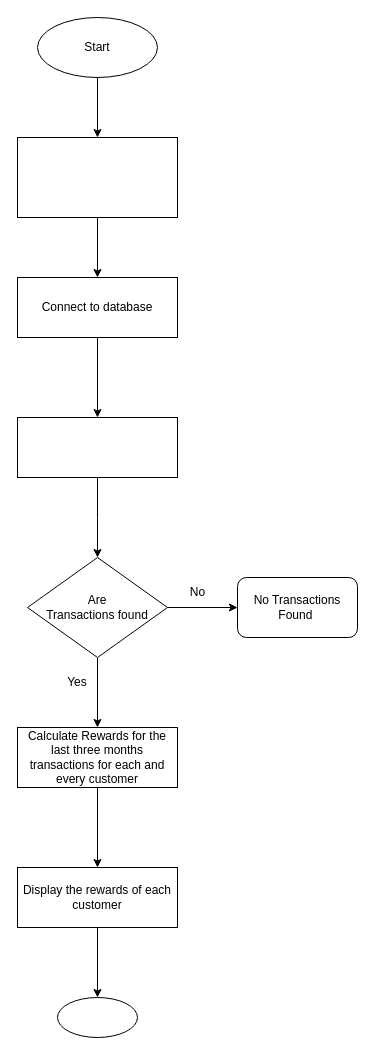
This 375x1055 diagram has some shape labels left out. Each missing label, with the centre of its shape:
"Call API to get rewards for transactions last three months" belongs at [97,447].
"End" belongs at [97,1017].
"Initialize the application" belongs at [97,177].
